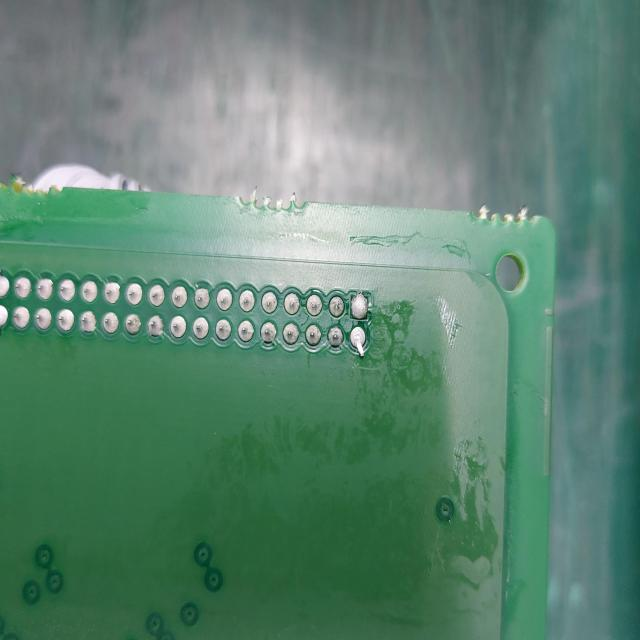redundant: (350, 288, 369, 317)
